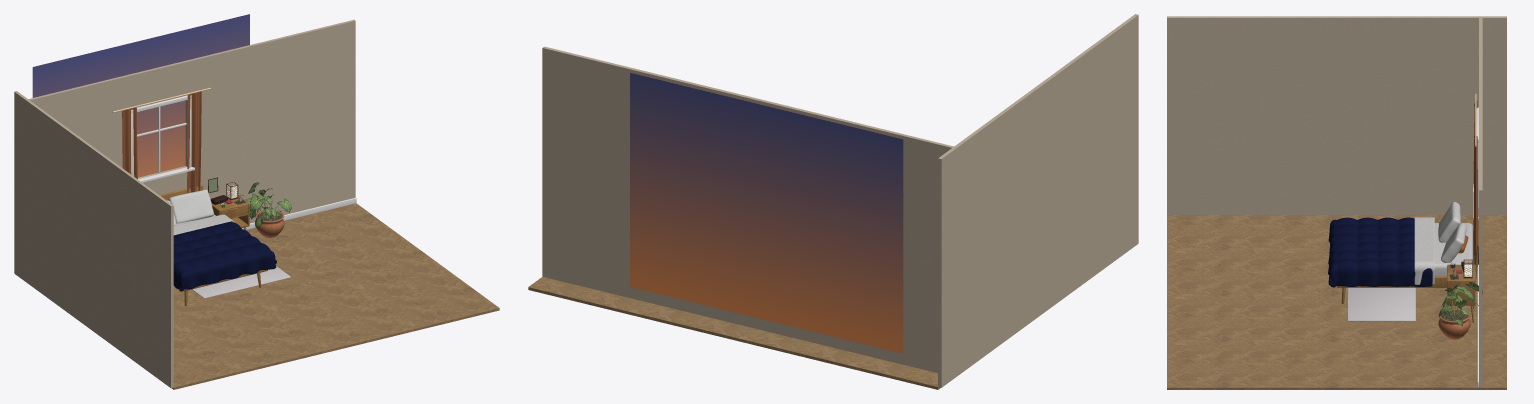
File: bedroom.glb
3 renders of one model, left to right at view 1: azimuth 30°, elevation 25°; view 2: azimuth 150°, elevation 25°; view 3: azimuth 270°, elevation 25°, orthographic. The views are drawn at different scales.
Parts seen in each view (by area): view 1: Floor, SideWall, WallRight, WallFar, Sky, Duvet, WallLeft, WallAbove, Curtain1, potted_plant_02, Rug, Pillow1 (+5 smaller); view 2: Sky, SideWall, WallFar, WallLeft, Floor, WallRight, WallBelow; view 3: SideWall, Floor, Duvet, Rug, potted_plant_02, SheetFold, WallFar, Mattress, Nightstand, Pillow0, Pillow1, Curtain1 (+1 smaller).
Part boxes in pixels (<box>): Floor: <box>172,203,499,389</box>; SideWall: <box>14,91,173,388</box>; WallRight: <box>185,34,295,223</box>; WallFar: <box>295,19,355,212</box>; Sky: <box>32,14,249,177</box>; Duvet: <box>173,221,276,291</box>; WallLeft: <box>28,74,132,167</box>; WallAbove: <box>132,60,187,107</box>; Curtain1: <box>186,91,201,193</box>; potted_plant_02: <box>245,182,291,237</box>; Rug: <box>192,266,290,298</box>; Pillow1: <box>168,189,213,223</box>; Sky: <box>630,72,903,353</box>; SideWall: <box>938,14,1138,387</box>; WallFar: <box>542,46,619,294</box>; WallLeft: <box>822,115,953,372</box>; Floor: <box>528,276,940,389</box>; WallRight: <box>617,65,755,328</box>; WallBelow: <box>754,317,822,344</box>; SideWall: <box>1167,16,1506,214</box>; Floor: <box>1167,215,1506,389</box>; Duvet: <box>1328,217,1432,287</box>; Rug: <box>1348,287,1415,321</box>; potted_plant_02: <box>1438,282,1482,339</box>; SheetFold: <box>1414,217,1434,284</box>; WallFar: <box>1479,158,1482,387</box>; Mattress: <box>1434,223,1472,276</box>; Nightstand: <box>1447,264,1475,322</box>; Pillow0: <box>1438,202,1460,242</box>; Pillow1: <box>1441,223,1466,262</box>; Curtain1: <box>1473,134,1478,256</box>.
Size of the model in its own units: 60.5 by 34.9 by 51.9.
53 materials, 15 textured.
